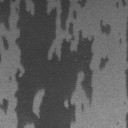red iron: (0, 0, 109, 128), (100, 19, 110, 36), (116, 0, 126, 10), (126, 18, 128, 62), (125, 69, 128, 96), (126, 114, 128, 128)
